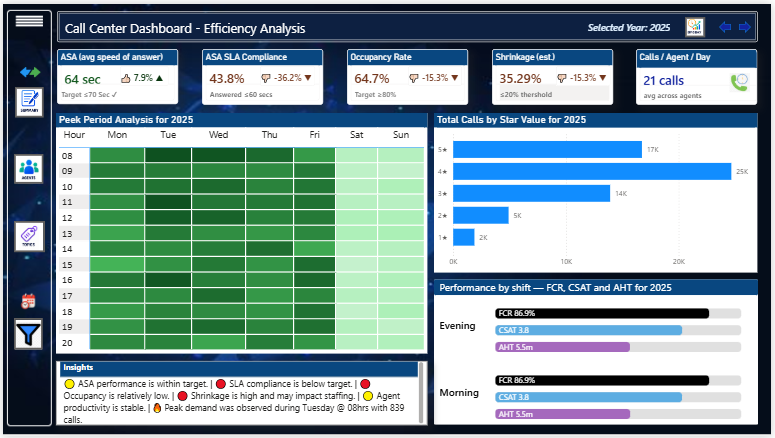

This screenshot's page, from the dashboard's own definition file:
{"tool":"powerbi","page":{"name":"Efficiency","canvas":[1280,720],"ordinal":1},"visuals":[{"type":"group","id":"g1","title":"Title","box":[90,11.9,1168.3,51.7],"z":0},{"type":"shape","box":[90,11.9,1168.3,51.7],"z":0,"group":"g1"},{"type":"image","box":[1137.8,22.2,31.2,32.1],"z":0,"group":"g11"},{"type":"cardVisual","title":"ASA (avg speed of answer)","fields":{"Data":["DAX_Measures.ASA Efficiency"]},"box":[90,74.3,202,92],"z":0,"group":"g2"},{"type":"cardVisual","title":"ASA SLA Compliance","fields":{"Data":["DAX_Measures.ASA SLA Compliance"]},"box":[331.4,74.3,202,92.9],"z":0,"group":"g3"},{"type":"cardVisual","title":"Occupancy Rate","fields":{"Data":["DAX_Measures.Occupancy Est %"]},"box":[572.9,74.3,202,93],"z":0,"group":"g4"},{"type":"cardVisual","title":"Shrinkage (est.)","fields":{"Data":["DAX_Measures.Shrinkage Est %"]},"box":[814.3,74.3,202,93],"z":0,"group":"g5"},{"type":"cardVisual","title":"Calls / Agent / Day","fields":{"Data":["DAX_Measures.ACPD"]},"box":[1055.7,74.3,202,93],"z":0,"group":"g6"},{"type":"image","box":[22.1,138.7,44.2,48.6],"z":0,"group":"g9"},{"type":"image","box":[19.5,251.6,45.5,46.7],"z":0,"group":"g8"},{"type":"image","box":[20,363.2,47.4,48.9],"z":0,"group":"g7"},{"type":"image","box":[19.8,526.7,45,49],"z":0,"group":"g10"},{"type":"actionButton","box":[1137.2,21.5,33.8,34],"z":1000,"group":"g11"},{"type":"textbox","box":[102.9,24.8,552.9,35.7],"z":1000,"group":"g1"},{"type":"actionButton","box":[20,138.6,47.8,50.9],"z":1000,"group":"g9"},{"type":"actionButton","box":[18.6,250,49.2,49.5],"z":1000,"group":"g8"},{"type":"actionButton","box":[19,361.5,51.7,52],"z":1000,"group":"g7"},{"type":"actionButton","box":[18.8,523.8,48.1,52.5],"z":1000,"group":"g10"},{"type":"group","id":"g2","title":"ASA","box":[90,74.3,201.4,91.4],"z":4500},{"type":"group","id":"g3","title":"ASA_SLA","box":[331.4,74.3,201.4,92.9],"z":5000},{"type":"group","id":"g4","title":"Occupancy","box":[572.9,74.3,201.4,92.9],"z":5500},{"type":"group","id":"g5","title":"Shrinkage","box":[814.3,74.3,201.4,92.9],"z":6000},{"type":"group","id":"g6","title":"Calls_per_Day","box":[1055.7,74.3,202.9,91.4],"z":7000},{"type":"cardVisual","fields":{"Data":["DAX_Measures.ASA Indicator"]},"box":[195,104,81,33],"z":9000},{"type":"cardVisual","fields":{"Data":["DAX_Measures.ASA SLA Indicator"]},"box":[429,104,92,33],"z":10000},{"type":"cardVisual","fields":{"Data":["DAX_Measures.Occu Indicator"]},"box":[675,103.8,90,33.8],"z":11000},{"type":"cardVisual","fields":{"Data":["DAX_Measures.Shrinkage Indicator"]},"box":[922,104,91,33],"z":12000},{"type":"image","box":[1210,114.4,35.6,32.2],"z":13000},{"type":"pivotTable","fields":{"Rows":["dim_time.Hour"],"Columns":["dim_calendar.Weeday_Short"],"Values":["DAX_Measures.Total Calls"]},"box":[88.6,181.4,618.6,401.4],"z":14000},{"type":"barChart","fields":{"Category":["dim_ratings.Star_Value"],"Y":["DAX_Measures.Total Calls"]},"box":[718.6,181.4,538.6,265.7],"z":15000},{"type":"image","box":[718.6,455.7,540,250],"z":16000},{"type":"tableEx","title":"Insight","fields":{"Values":["DAX_Measures.Insight_Efficiency"]},"box":[88.6,594.3,618.6,107.1],"z":17000},{"type":"group","id":"g7","title":"Topics Button","box":[19,361.5,52.5,51.2],"z":18000},{"type":"group","id":"g8","title":"Agents Button","box":[18.6,250,50,50],"z":19000},{"type":"group","id":"g9","title":"Summary Button","box":[20,138.6,47.1,51.4],"z":20000},{"type":"actionButton","box":[8.3,11.7,73.3,38.3],"z":21000},{"type":"group","id":"g10","title":"Date Icon","box":[18.8,523.8,48.8,52.5],"z":22000},{"type":"image","box":[22.9,97.1,44.3,34.3],"z":25000},{"type":"image","box":[20,478.6,45.7,34.3],"z":26000},{"type":"shape","box":[1226.7,28.3,20,20],"z":27000},{"type":"shape","box":[1193.3,28.3,20,20],"z":28000},{"type":"cardVisual","fields":{"Data":["DAX_Measures.T_Topic Period Label"]},"box":[751.7,21.7,360,30],"z":29000},{"type":"group","id":"g11","title":"Efficiency Button","box":[1137.2,21.5,32.5,33.8],"z":30000}]}

Visuals, with their boxes on the page's 1280x720 design canvas (x1, y1, x2, y2). These are canvas units, not pixel positions in the 775x438 screenshot, which may show the page scaled, cropped or inside an application window:
"Title" group: box=[90, 12, 1258, 64]
shape: box=[90, 12, 1258, 64]
image: box=[1138, 22, 1169, 54]
"ASA (avg speed of answer)" cardVisual: box=[90, 74, 292, 166]
"ASA SLA Compliance" cardVisual: box=[331, 74, 533, 167]
"Occupancy Rate" cardVisual: box=[573, 74, 775, 167]
"Shrinkage (est.)" cardVisual: box=[814, 74, 1016, 167]
"Calls / Agent / Day" cardVisual: box=[1056, 74, 1258, 167]
image: box=[22, 139, 66, 187]
image: box=[20, 252, 65, 298]
image: box=[20, 363, 67, 412]
image: box=[20, 527, 65, 576]
actionButton: box=[1137, 22, 1171, 56]
textbox: box=[103, 25, 656, 60]
actionButton: box=[20, 139, 68, 190]
actionButton: box=[19, 250, 68, 300]
actionButton: box=[19, 362, 71, 414]
actionButton: box=[19, 524, 67, 576]
"ASA" group: box=[90, 74, 291, 166]
"ASA_SLA" group: box=[331, 74, 533, 167]
"Occupancy" group: box=[573, 74, 774, 167]
"Shrinkage" group: box=[814, 74, 1016, 167]
"Calls_per_Day" group: box=[1056, 74, 1259, 166]
cardVisual - DAX_Measures.ASA Indicator: box=[195, 104, 276, 137]
cardVisual - DAX_Measures.ASA SLA Indicator: box=[429, 104, 521, 137]
cardVisual - DAX_Measures.Occu Indicator: box=[675, 104, 765, 138]
cardVisual - DAX_Measures.Shrinkage Indicator: box=[922, 104, 1013, 137]
image: box=[1210, 114, 1246, 147]
pivotTable - dim_time.Hour x dim_calendar.Weeday_Short: box=[89, 181, 707, 583]
barChart - dim_ratings.Star_Value x DAX_Measures.Total Calls: box=[719, 181, 1257, 447]
image: box=[719, 456, 1259, 706]
"Insight" tableEx: box=[89, 594, 707, 701]
"Topics Button" group: box=[19, 362, 72, 413]
"Agents Button" group: box=[19, 250, 69, 300]
"Summary Button" group: box=[20, 139, 67, 190]
actionButton: box=[8, 12, 82, 50]
"Date Icon" group: box=[19, 524, 68, 576]
image: box=[23, 97, 67, 131]
image: box=[20, 479, 66, 513]
shape: box=[1227, 28, 1247, 48]
shape: box=[1193, 28, 1213, 48]
cardVisual - DAX_Measures.T_Topic Period Label: box=[752, 22, 1112, 52]
"Efficiency Button" group: box=[1137, 22, 1170, 55]
